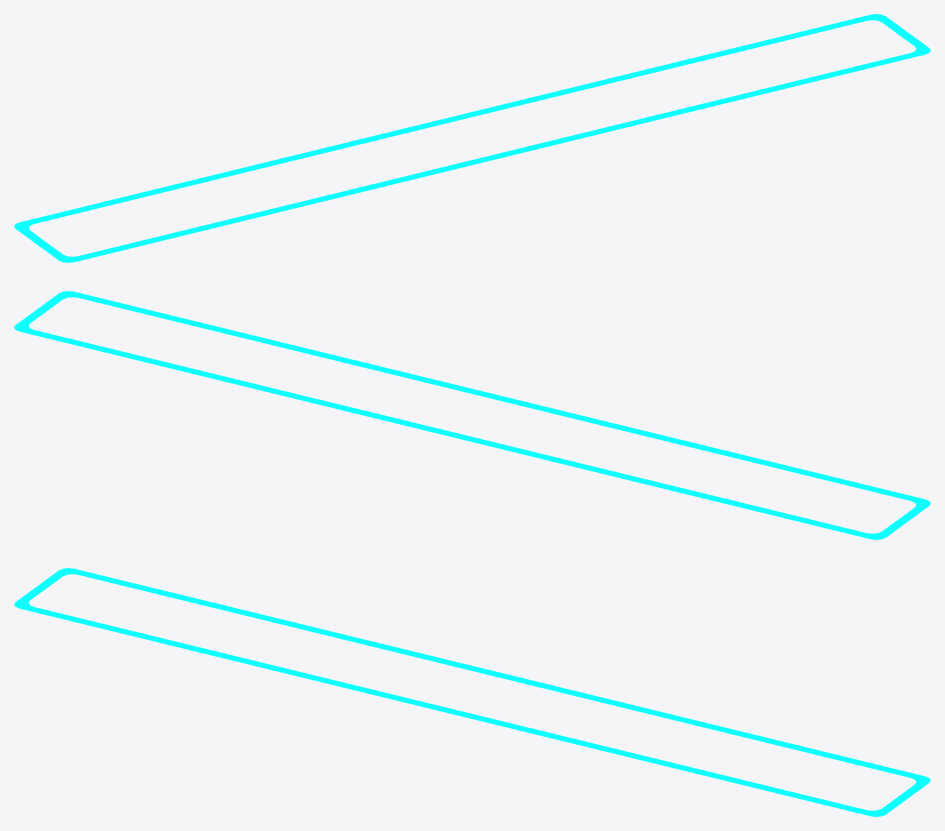
The model's file is UI_bar1.glb.
3 renders of one model, top to bottom at view 1: azimuth 30°, elevation 25°; view 2: azimuth 150°, elevation 25°; view 3: azimuth 330°, elevation 25°, orthographic.
Visible parts, largest first — view 1: bar1; view 2: bar1; view 3: bar1.
Part boxes in pixels (x1,y1,x2,y2): bar1: (14,14,930,262); bar1: (14,291,930,539); bar1: (14,568,930,816).
Size of the model in its own units: 2.68 by 0 by 0.2916.
